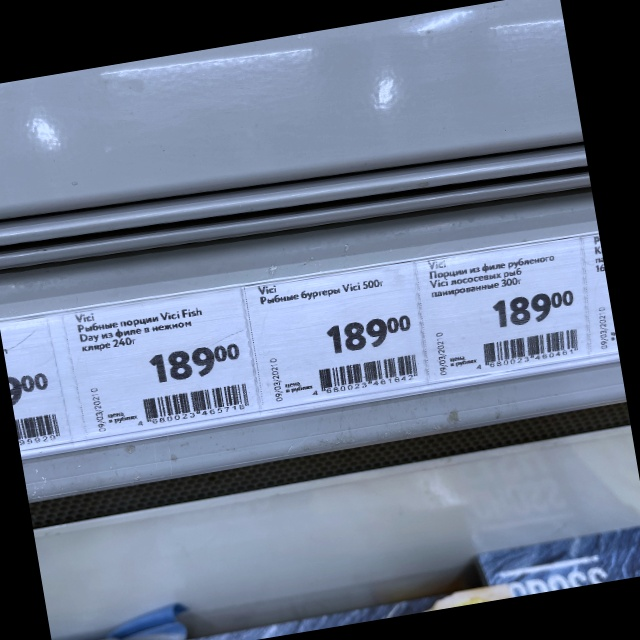barcode: (135, 384, 252, 431), (474, 327, 581, 374), (307, 353, 422, 395)
name: (69, 302, 211, 354), (426, 251, 558, 299), (254, 279, 395, 307)
price: (314, 312, 414, 357), (489, 285, 578, 330), (145, 344, 245, 384)
price_tag: (59, 289, 261, 436), (247, 248, 424, 411), (428, 232, 584, 383)
